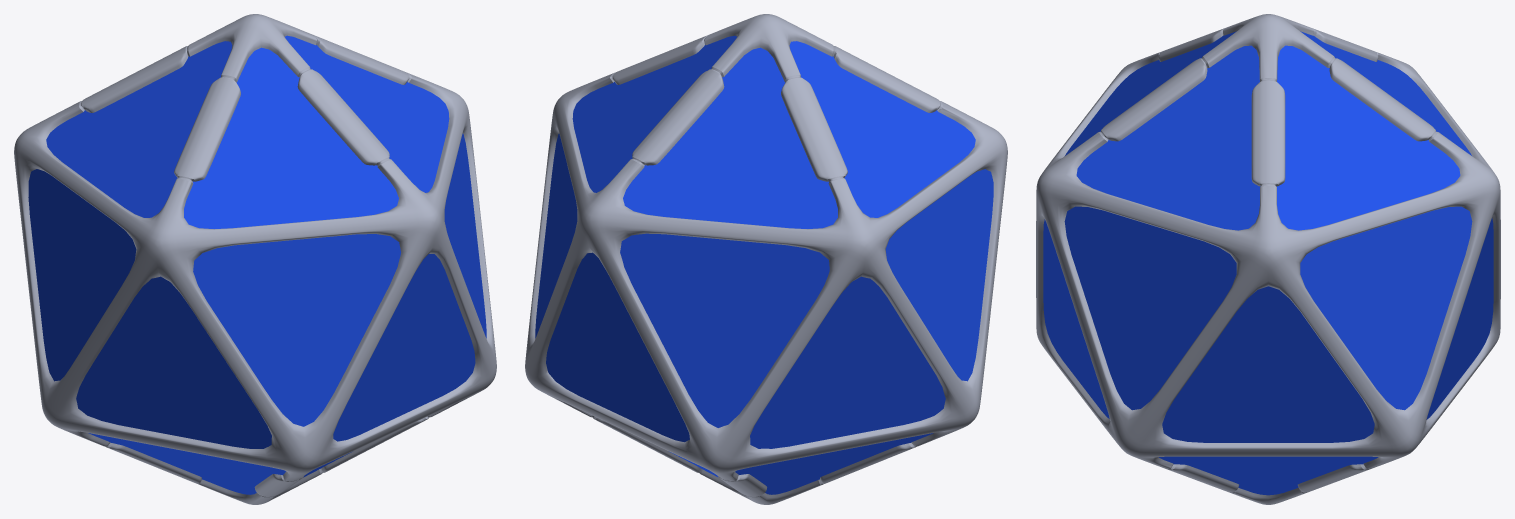
File: Detail_Ngon.fbx
3 renders of one model, left to right at view 1: azimuth 30°, elevation 25°; view 2: azimuth 150°, elevation 25°; view 3: azimuth 270°, elevation 25°, orthographic.
Visible parts, largest first — view 1: Detail_Ngon; view 2: Detail_Ngon; view 3: Detail_Ngon.
Boxes of the visible parts, x1,y1,x2,y2 form: Detail_Ngon: [14, 14, 496, 504]; Detail_Ngon: [525, 14, 1007, 504]; Detail_Ngon: [1036, 14, 1500, 504].
Size of the model in its own units: 181 by 201 by 174.
Materials: 1 (1 with a texture image).
